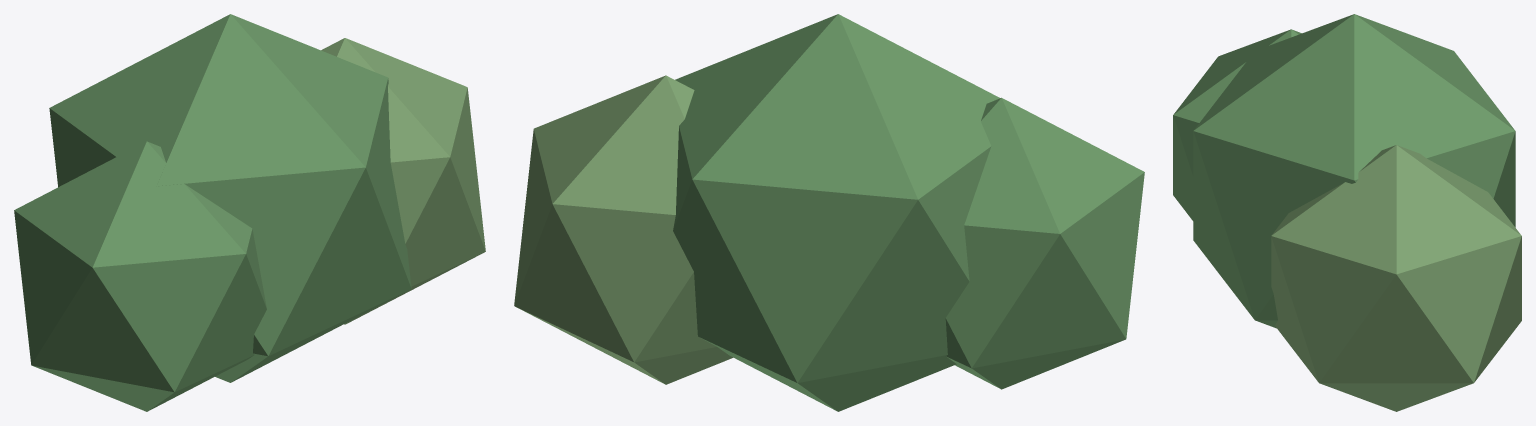
File: Bush.fbx
3 views of the same model, side by side, from view 1: azimuth 30°, elevation 25°; view 2: azimuth 150°, elevation 25°; view 3: azimuth 270°, elevation 25° (orthographic). The views are drawn at different scales.
Visible parts, largest first — view 1: Bush; view 2: Bush; view 3: Bush.
Boxes of the visible parts, x1,y1,x2,y2 form: Bush: (14,14,485,411); Bush: (514,14,1144,411); Bush: (1173,14,1521,411).
Bounding box in the file's own units: 1.26 × 0.9 × 0.8284.
